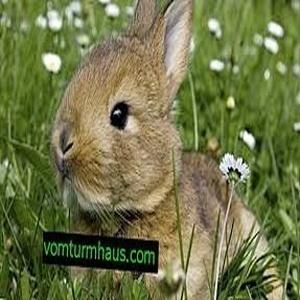rabbit: (50, 0, 282, 300)
